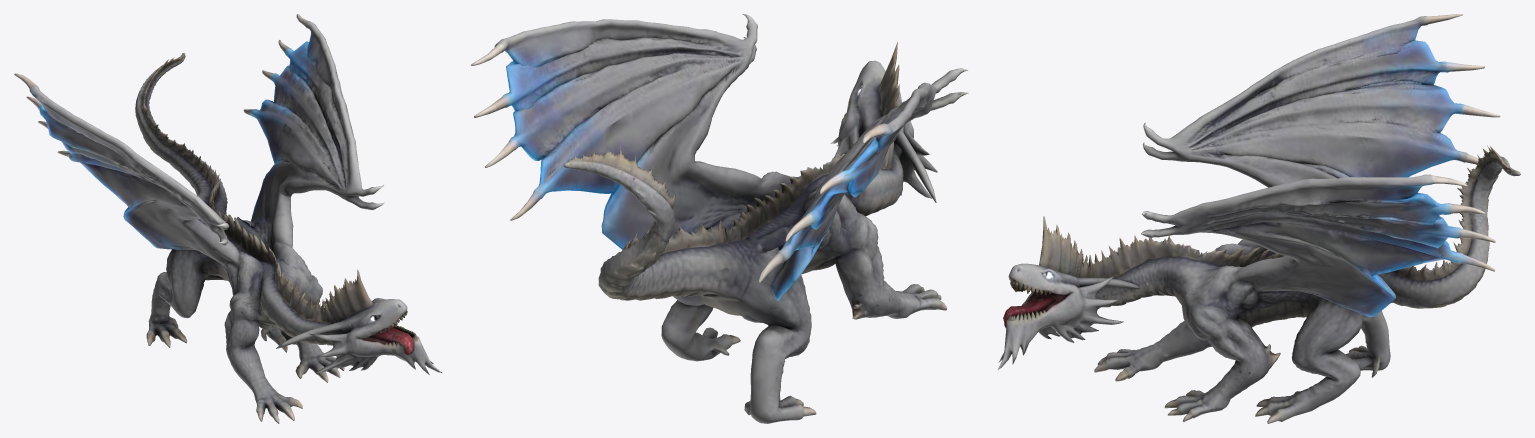
The model's file is MZ4250 - Dragon Silver Wyrmling.glb.
The picture shows the model from 3 angles, left to right: view 1: azimuth 30°, elevation 25°; view 2: azimuth 150°, elevation 25°; view 3: azimuth 270°, elevation 25°; orthographic projection. The views are drawn at different scales.
Visible parts, largest first — view 1: Silver Dragon Wyrmling.001; view 2: Silver Dragon Wyrmling.001; view 3: Silver Dragon Wyrmling.001.
Part boxes in pixels (left/top/right/bottom): Silver Dragon Wyrmling.001: left=14, top=14, right=441, bottom=423; Silver Dragon Wyrmling.001: left=471, top=14, right=968, bottom=423; Silver Dragon Wyrmling.001: left=998, top=14, right=1520, bottom=423.
Bounding box in the file's own units: 32.4 × 28.02 × 44.93.
Materials: 1 (1 with a texture image).
